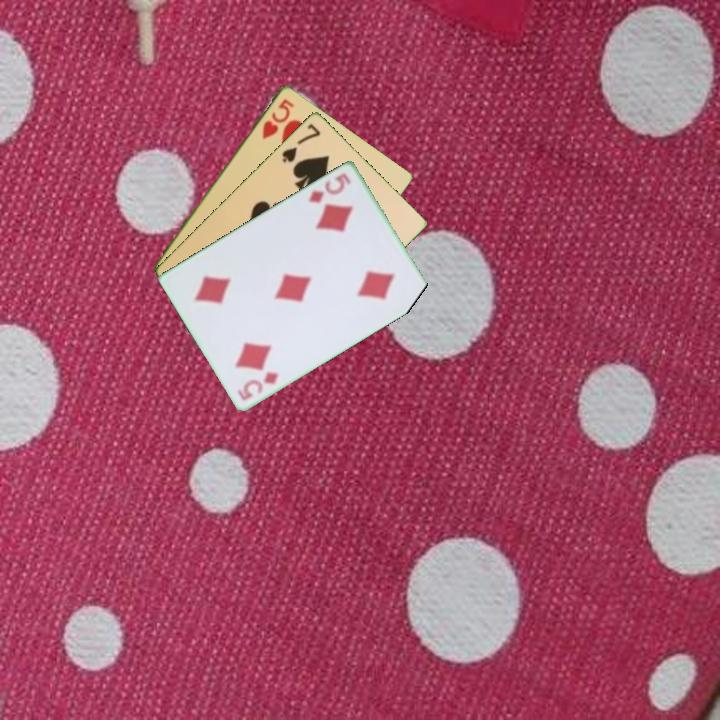5d: (305, 169, 354, 206), (234, 367, 282, 403)
5h: (258, 95, 297, 142)
7s: (278, 120, 323, 165)
